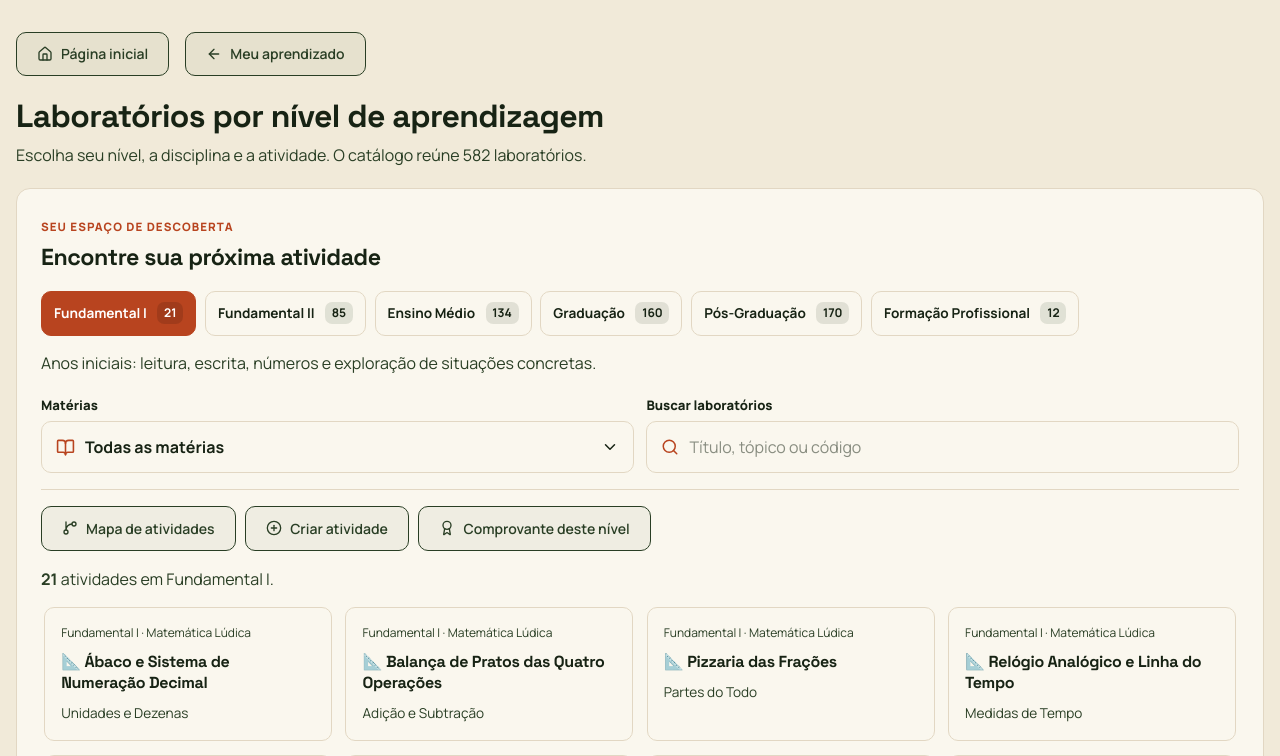
Test: Navegação de laboratórios por nível › filtra por disciplina dentro do nível atual
Click the button with aria-label "Escolher matéria": (155, 447) [41, 421, 634, 473]
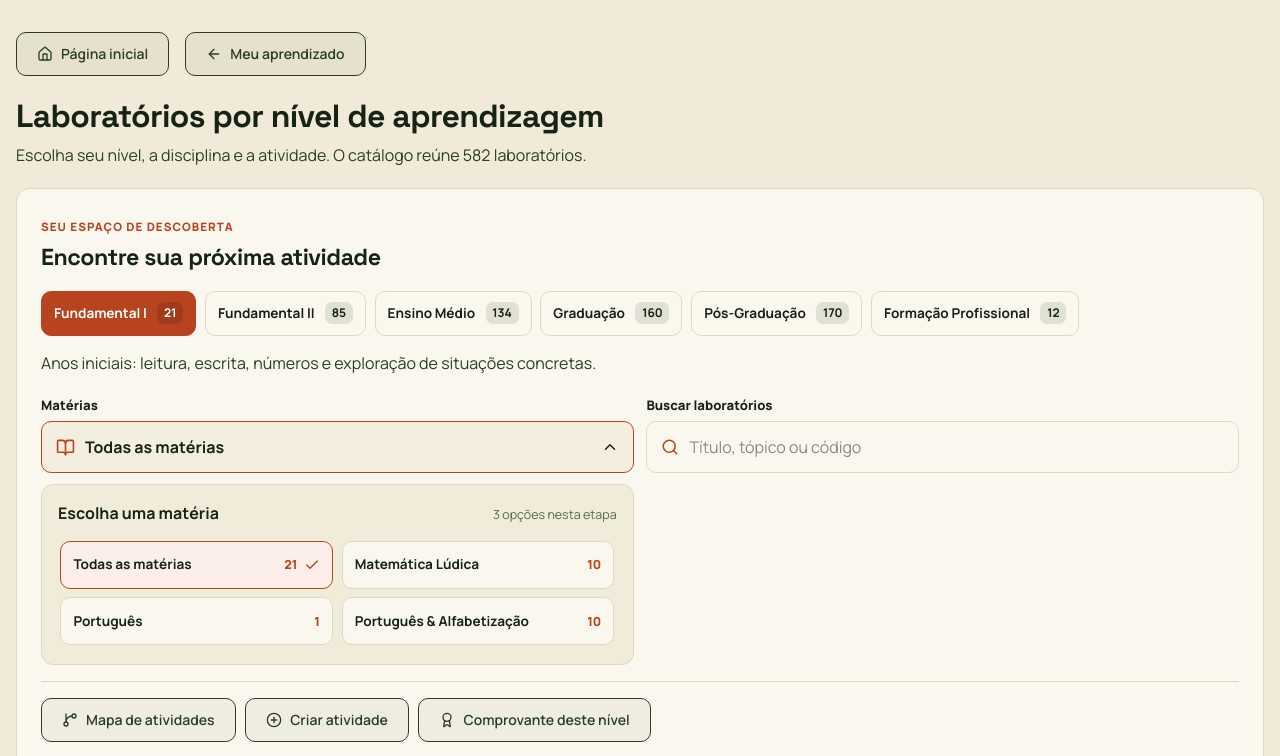
Click the button "Matemática Lúdica 10": (478, 565) [342, 541, 614, 589]
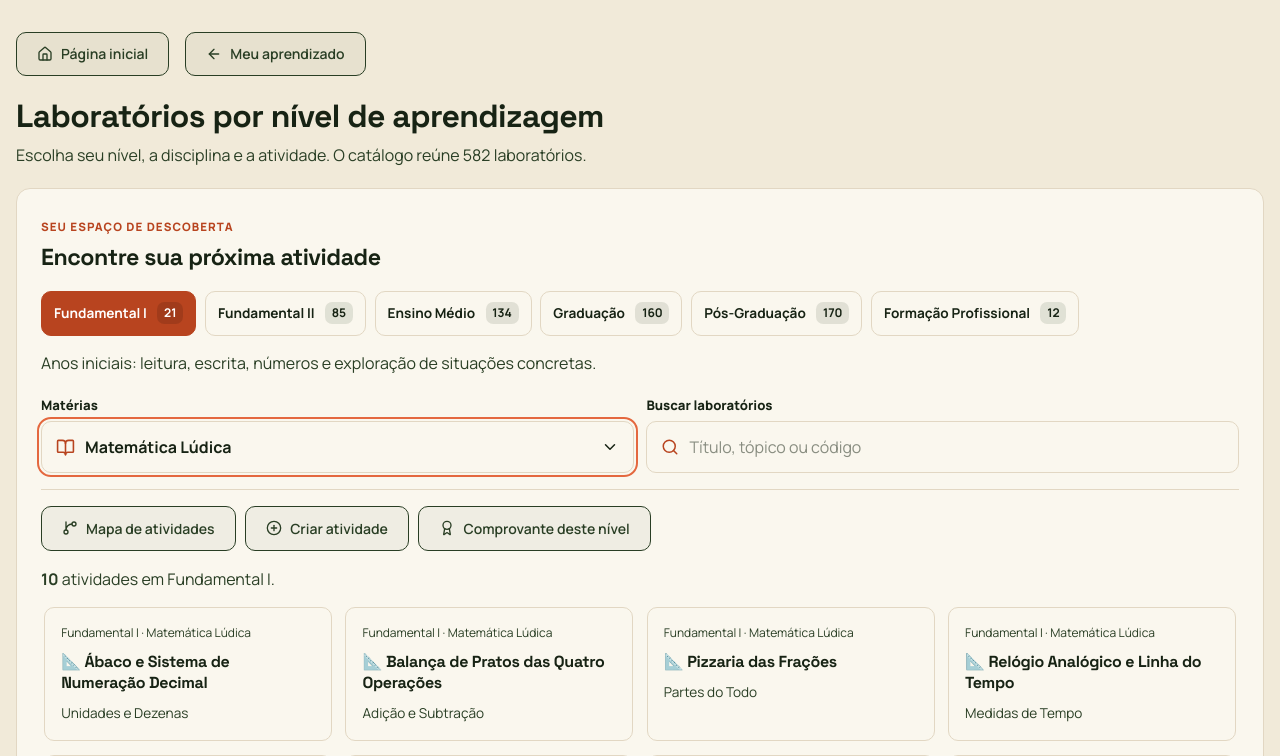
Expected: the element "Ábaco e Sistema de Numeração Decimal" is shown, [44, 607, 332, 741]
Expected: the button with aria-label "Escolher matéria" is collapsed, [41, 421, 634, 473]
